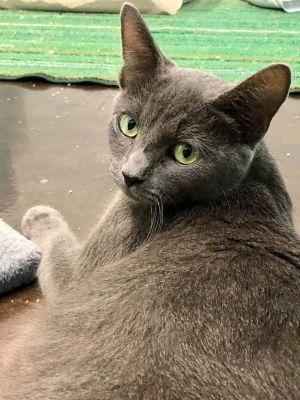rblue: (93, 4, 300, 219)
